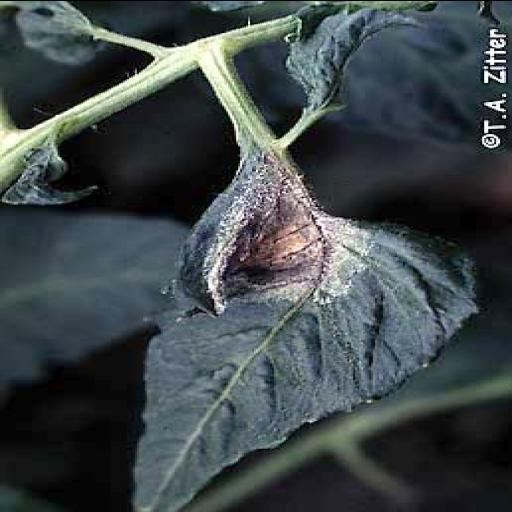Late Blight: (107, 150, 474, 510)
